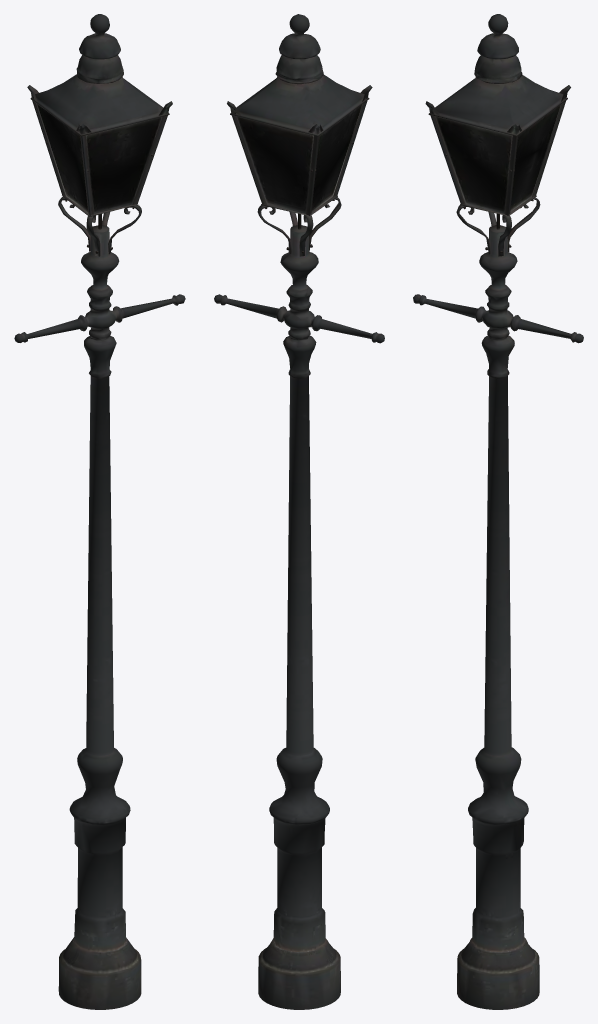
The model's file is street_lamp_01.glb.
The picture shows the model from 3 angles, left to right: view 1: azimuth 30°, elevation 25°; view 2: azimuth 150°, elevation 25°; view 3: azimuth 330°, elevation 25°; orthographic projection.
Visible parts, largest first — view 1: street_lamp_01; view 2: street_lamp_01; view 3: street_lamp_01.
Part boxes in pixels (<box>): street_lamp_01: <box>14,14,185,1009</box>; street_lamp_01: <box>214,14,384,1009</box>; street_lamp_01: <box>413,14,583,1009</box>.
Bounding box in the file's own units: 0.7034 × 3.87 × 0.3857.
Materials: 2 (2 with a texture image).
